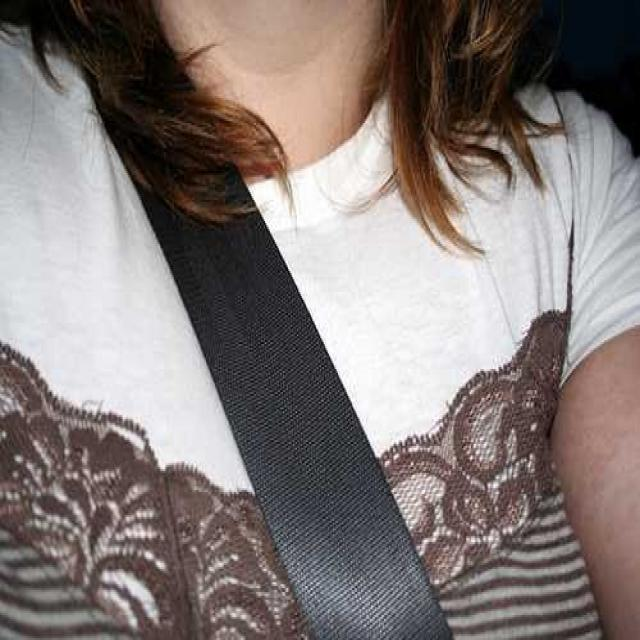seatbelt: (72, 31, 440, 602)
